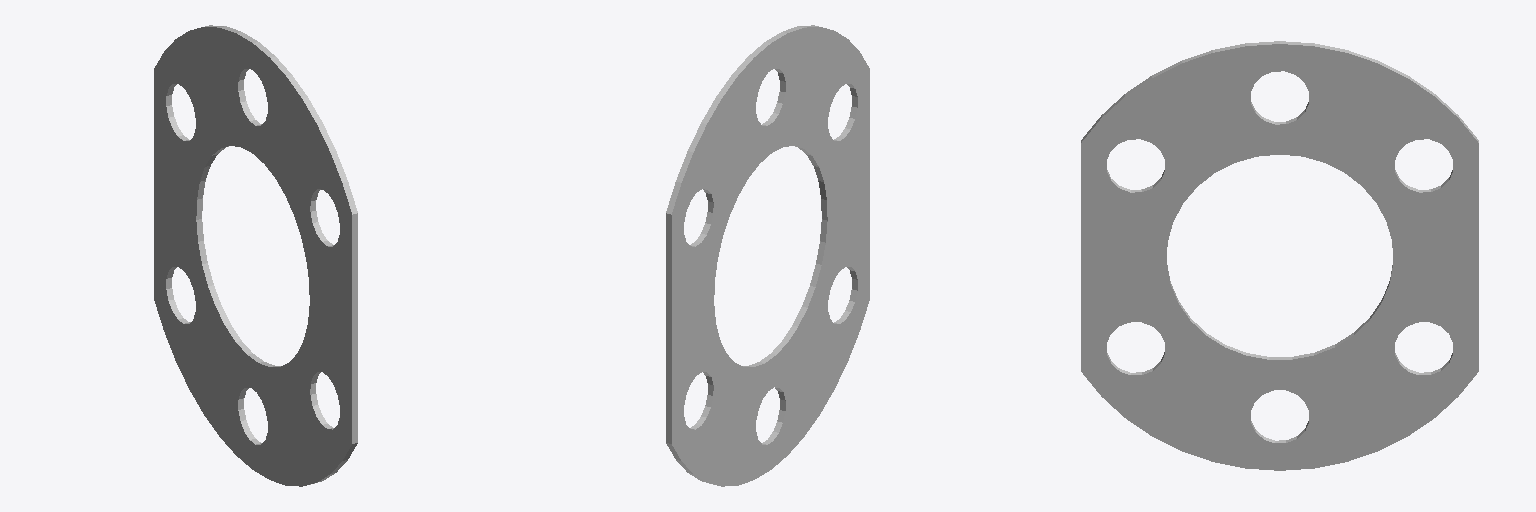
File: Шайба болтов крепления маховика.obj
3 views of the same model, side by side, from view 1: azimuth 30°, elevation 25°; view 2: azimuth 150°, elevation 25°; view 3: azimuth 270°, elevation 25° (orthographic).
Visible parts, largest first — view 1: Шайба_болтов_крепления_маховика; view 2: Шайба_болтов_крепления_маховика; view 3: Шайба_болтов_крепления_маховика.
Part boxes in pixels (x1,y1,x2,y2): Шайба_болтов_крепления_маховика: (154,25,357,486); Шайба_болтов_крепления_маховика: (666,25,869,486); Шайба_болтов_крепления_маховика: (1081,41,1478,470).
Size of the model in its own units: 1.2 by 83 by 70.